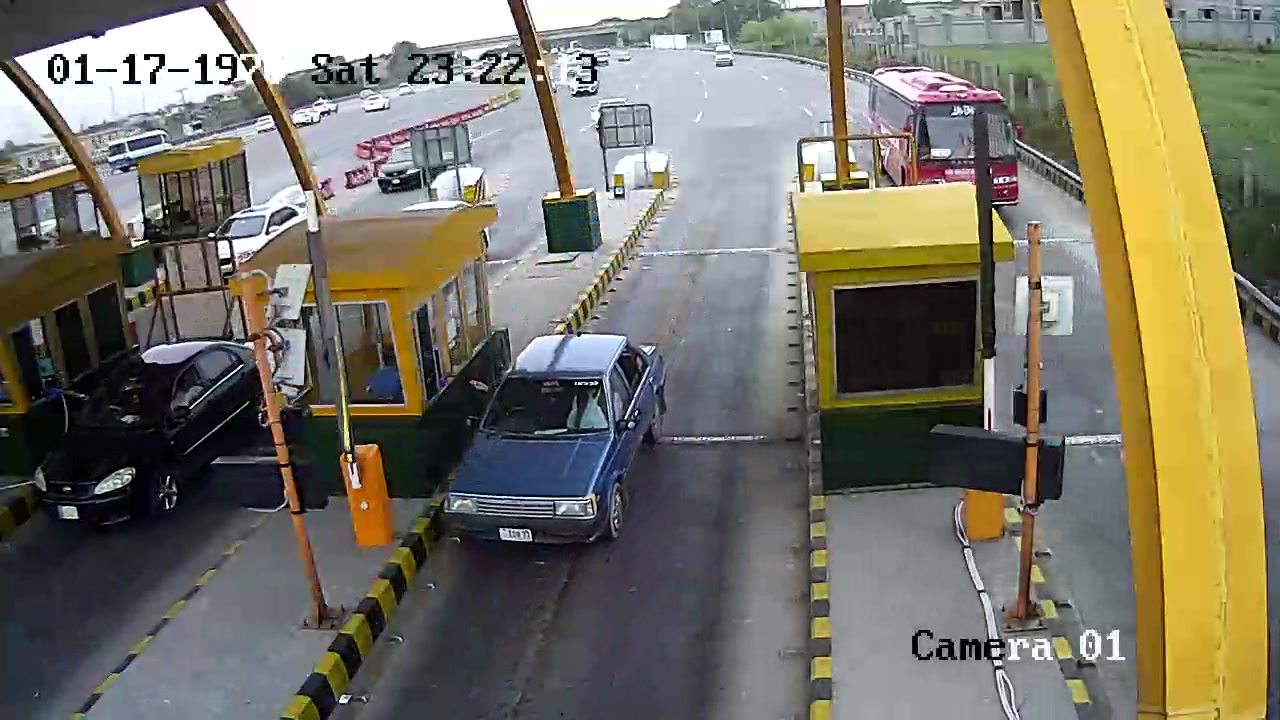F1: (435, 323, 678, 559)
